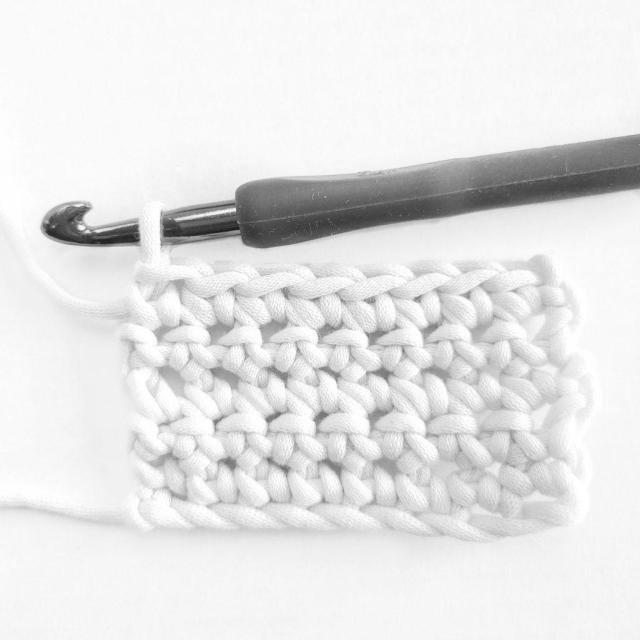ch: (311, 503, 390, 531), (170, 495, 230, 530), (364, 506, 432, 535), (258, 504, 336, 528), (214, 506, 280, 531), (421, 515, 484, 539), (472, 515, 550, 534), (139, 504, 189, 530)
sc: (498, 440, 583, 516), (129, 257, 211, 328), (377, 384, 442, 462), (342, 262, 414, 332), (481, 391, 549, 463), (429, 392, 497, 464), (181, 261, 258, 324), (232, 265, 311, 325), (316, 390, 383, 458), (439, 259, 506, 327), (269, 391, 327, 465), (288, 267, 364, 323), (485, 306, 550, 371), (270, 298, 327, 372), (167, 393, 229, 458), (390, 273, 451, 334), (390, 355, 447, 420), (163, 306, 220, 370), (479, 262, 541, 320), (218, 395, 275, 457), (427, 310, 485, 370), (178, 450, 239, 507), (233, 443, 289, 505), (324, 308, 380, 370), (398, 445, 448, 511), (340, 450, 397, 507), (448, 357, 505, 414), (375, 311, 431, 369), (129, 367, 182, 428), (218, 310, 272, 368), (235, 357, 290, 412), (449, 452, 500, 511), (287, 356, 337, 413), (182, 361, 233, 415), (138, 442, 185, 499), (337, 358, 387, 410), (288, 453, 339, 503), (116, 324, 170, 371), (503, 356, 557, 402)
